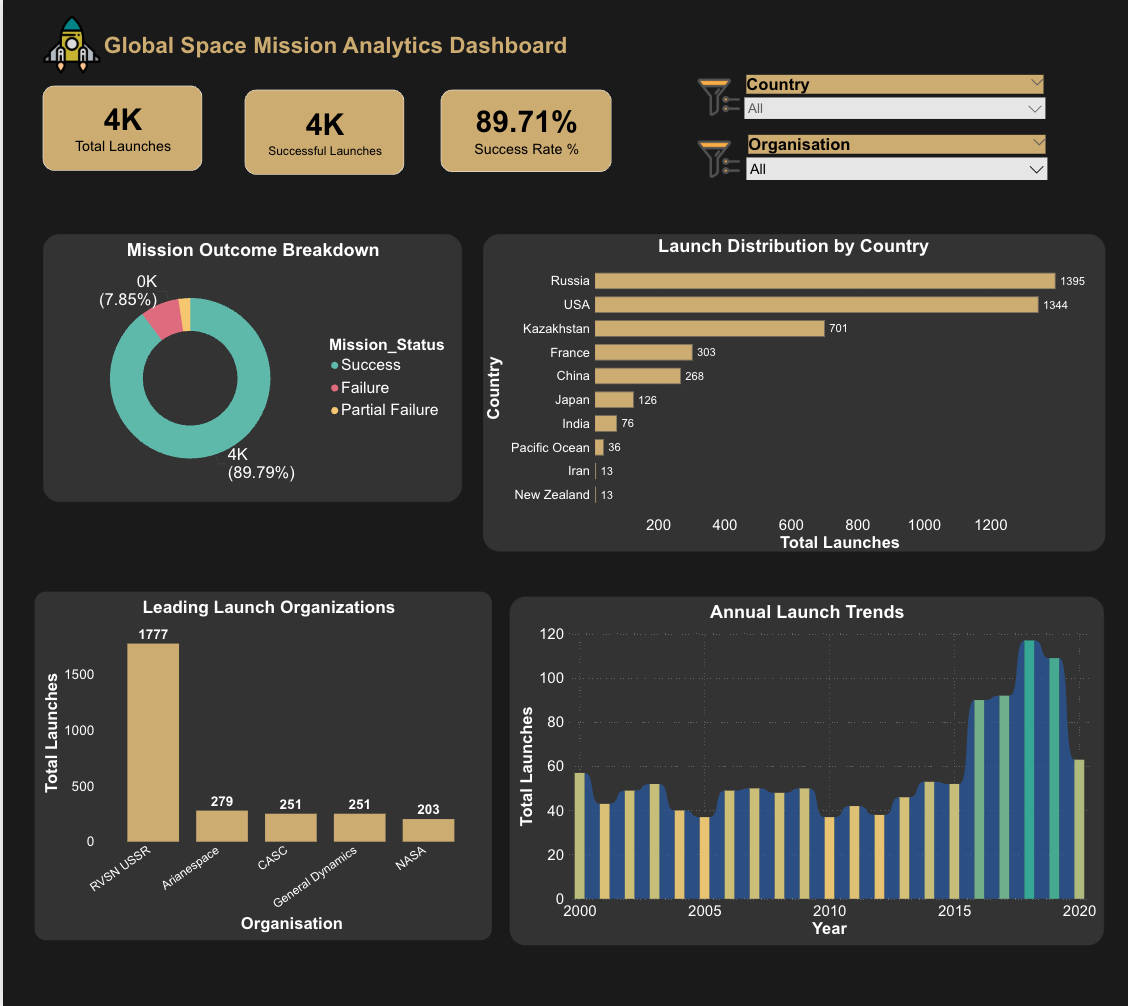

What the dashboard file says about the page in this screenshot:
{"tool":"powerbi","page":{"name":"Page 1","canvas":[2000,1800],"ordinal":0},"visuals":[{"type":"cardVisual","title":"Total Launches","fields":{"Data":["mission_launches.Total Launches"]},"box":[0,148.8,269.3,216.1],"z":0},{"type":"cardVisual","title":"Successful Launches","fields":{"Data":["mission_launches.Successful Launches"]},"box":[347.2,116.9,276.4,216.1],"z":1000},{"type":"cardVisual","title":"Success Rate","fields":{"Data":["mission_launches.Success Rate %"]},"box":[712.2,134.6,251.6,216.1],"z":2000},{"type":"clusteredColumnChart","title":"Annual Launch Trends ","fields":{"Y":["mission_launches.Total Launches"],"Category":["mission_launches.Date.Variation.Date Hierarchy.Year"]},"box":[896.5,970.9,1102,637.8],"z":3000},{"type":"clusteredBarChart","title":"Launch Distribution by Country","fields":{"Y":["mission_launches.Total Launches"],"Category":["mission_launches.Country"]},"box":[875.2,365,1094.9,574],"z":4000},{"type":"clusteredColumnChart","title":"Leading Launch Organizations","fields":{"Category":["mission_launches.Organisation"],"Y":["mission_launches.Total Launches"]},"box":[0,970.9,875.2,637.8],"z":5000},{"type":"donutChart","title":"Mission Outcome Breakdown","fields":{"Category":["mission_launches.Mission_Status"],"Y":["mission_launches.Total Launches"]},"box":[0,365,839.8,574],"z":6000},{"type":"textbox","box":[347.2,1637,1346.5,163],"z":7000},{"type":"textbox","box":[269.3,0,1399.6,116.9],"z":8000},{"type":"slicer","fields":{"Values":["mission_launches.Country"]},"box":[1209.8,143.3,515.4,93.7],"z":9000},{"type":"slicer","fields":{"Values":["mission_launches.Organisation"]},"box":[1209.8,242.5,515.4,90.9],"z":10000}]}

Visuals, with their boxes in screenshot pixels (x1, y1, x2, y2), scaled from the page's 2000x1800 canvas onto the 1128x1006 screenshot:
"Total Launches" cardVisual: crop(0, 83, 152, 204)
"Successful Launches" cardVisual: crop(196, 65, 352, 186)
"Success Rate" cardVisual: crop(402, 75, 544, 196)
"Annual Launch Trends " clusteredColumnChart: crop(506, 543, 1127, 899)
"Launch Distribution by Country" clusteredBarChart: crop(494, 204, 1111, 525)
"Leading Launch Organizations" clusteredColumnChart: crop(0, 543, 494, 899)
"Mission Outcome Breakdown" donutChart: crop(0, 204, 474, 525)
textbox: crop(196, 915, 955, 1005)
textbox: crop(152, 0, 941, 65)
slicer - mission_launches.Country: crop(682, 80, 973, 132)
slicer - mission_launches.Organisation: crop(682, 136, 973, 186)
